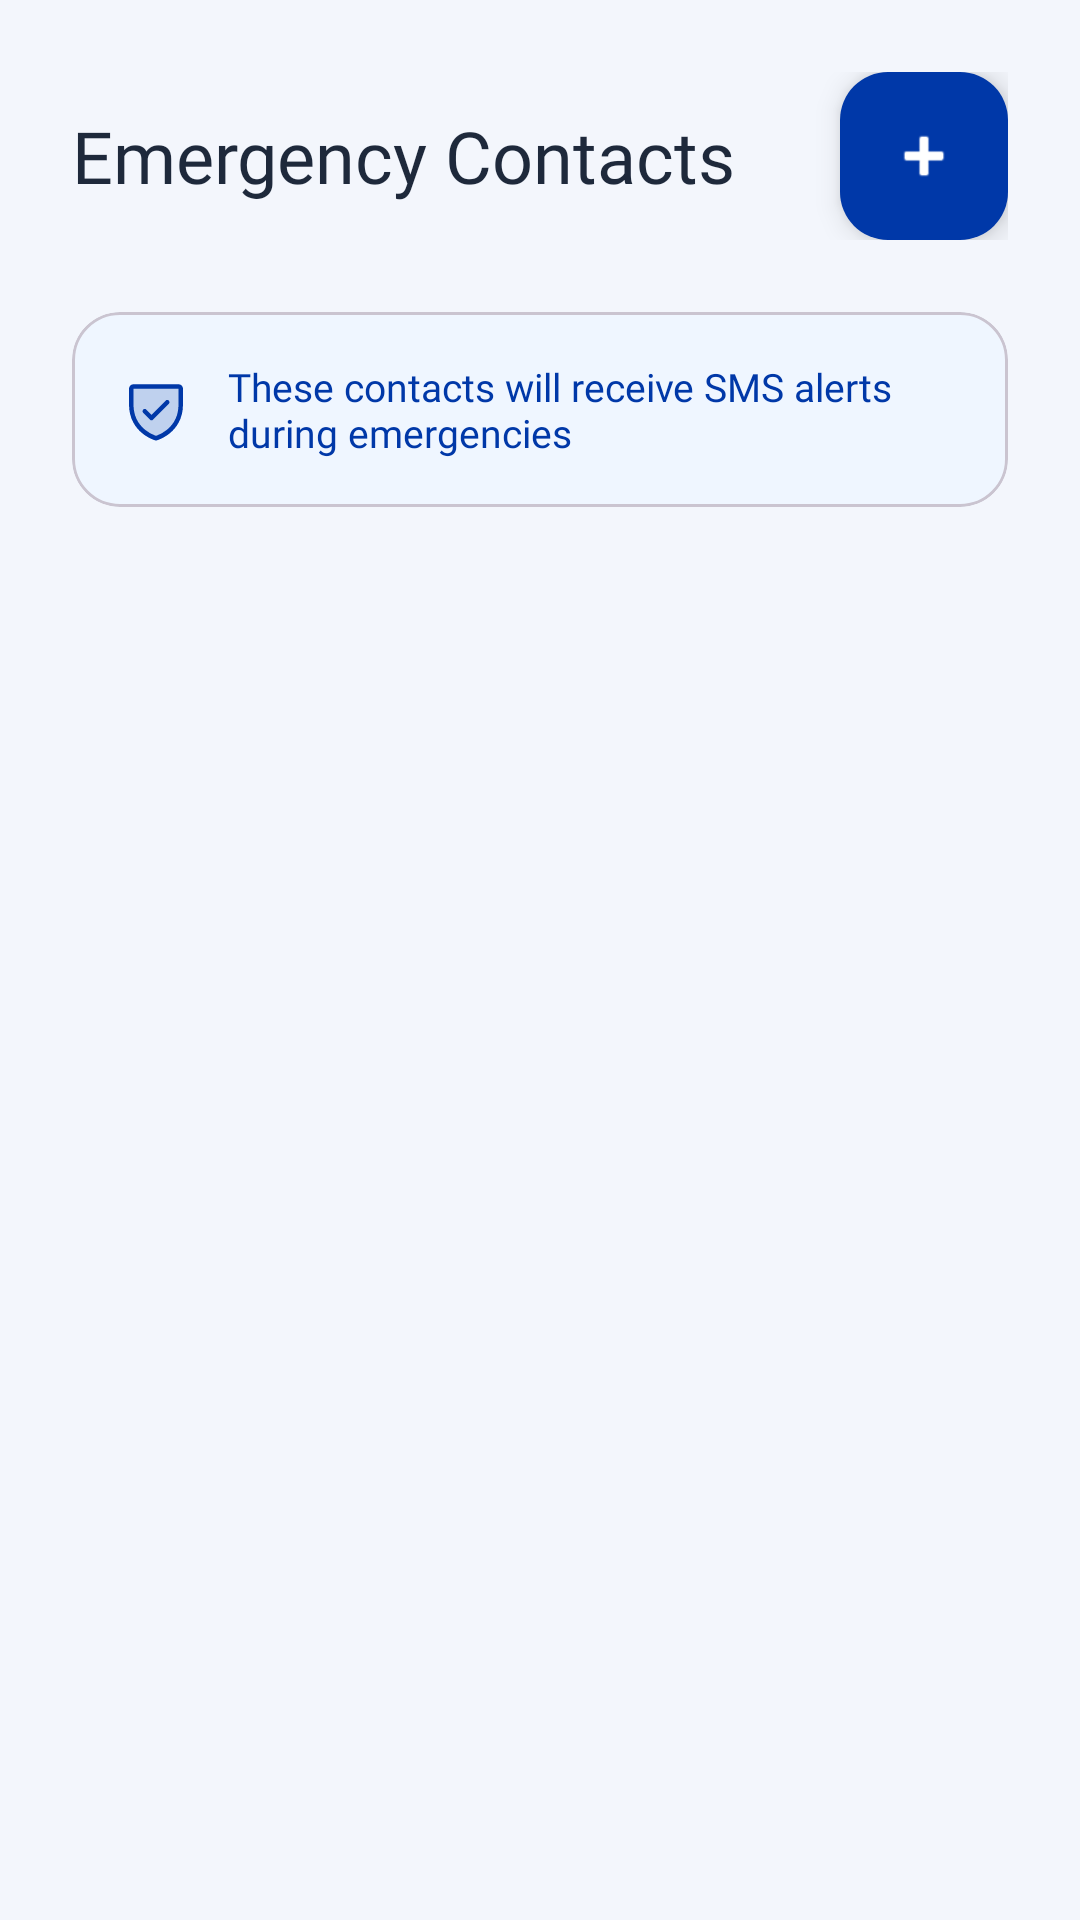

Point at icon controls on the screen. Image size 1080px x 1920px, points as (x=x, y=y).
Add contact: (x=924, y=156)
shield check: (x=156, y=412)
